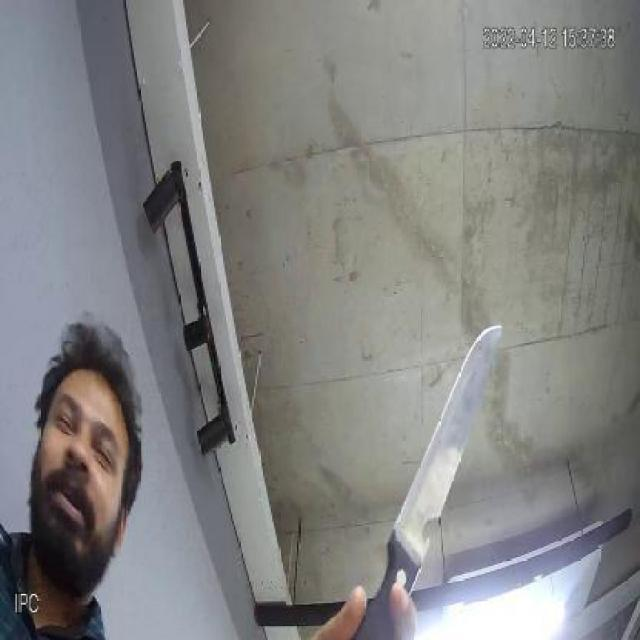-: (389, 323, 511, 585)
